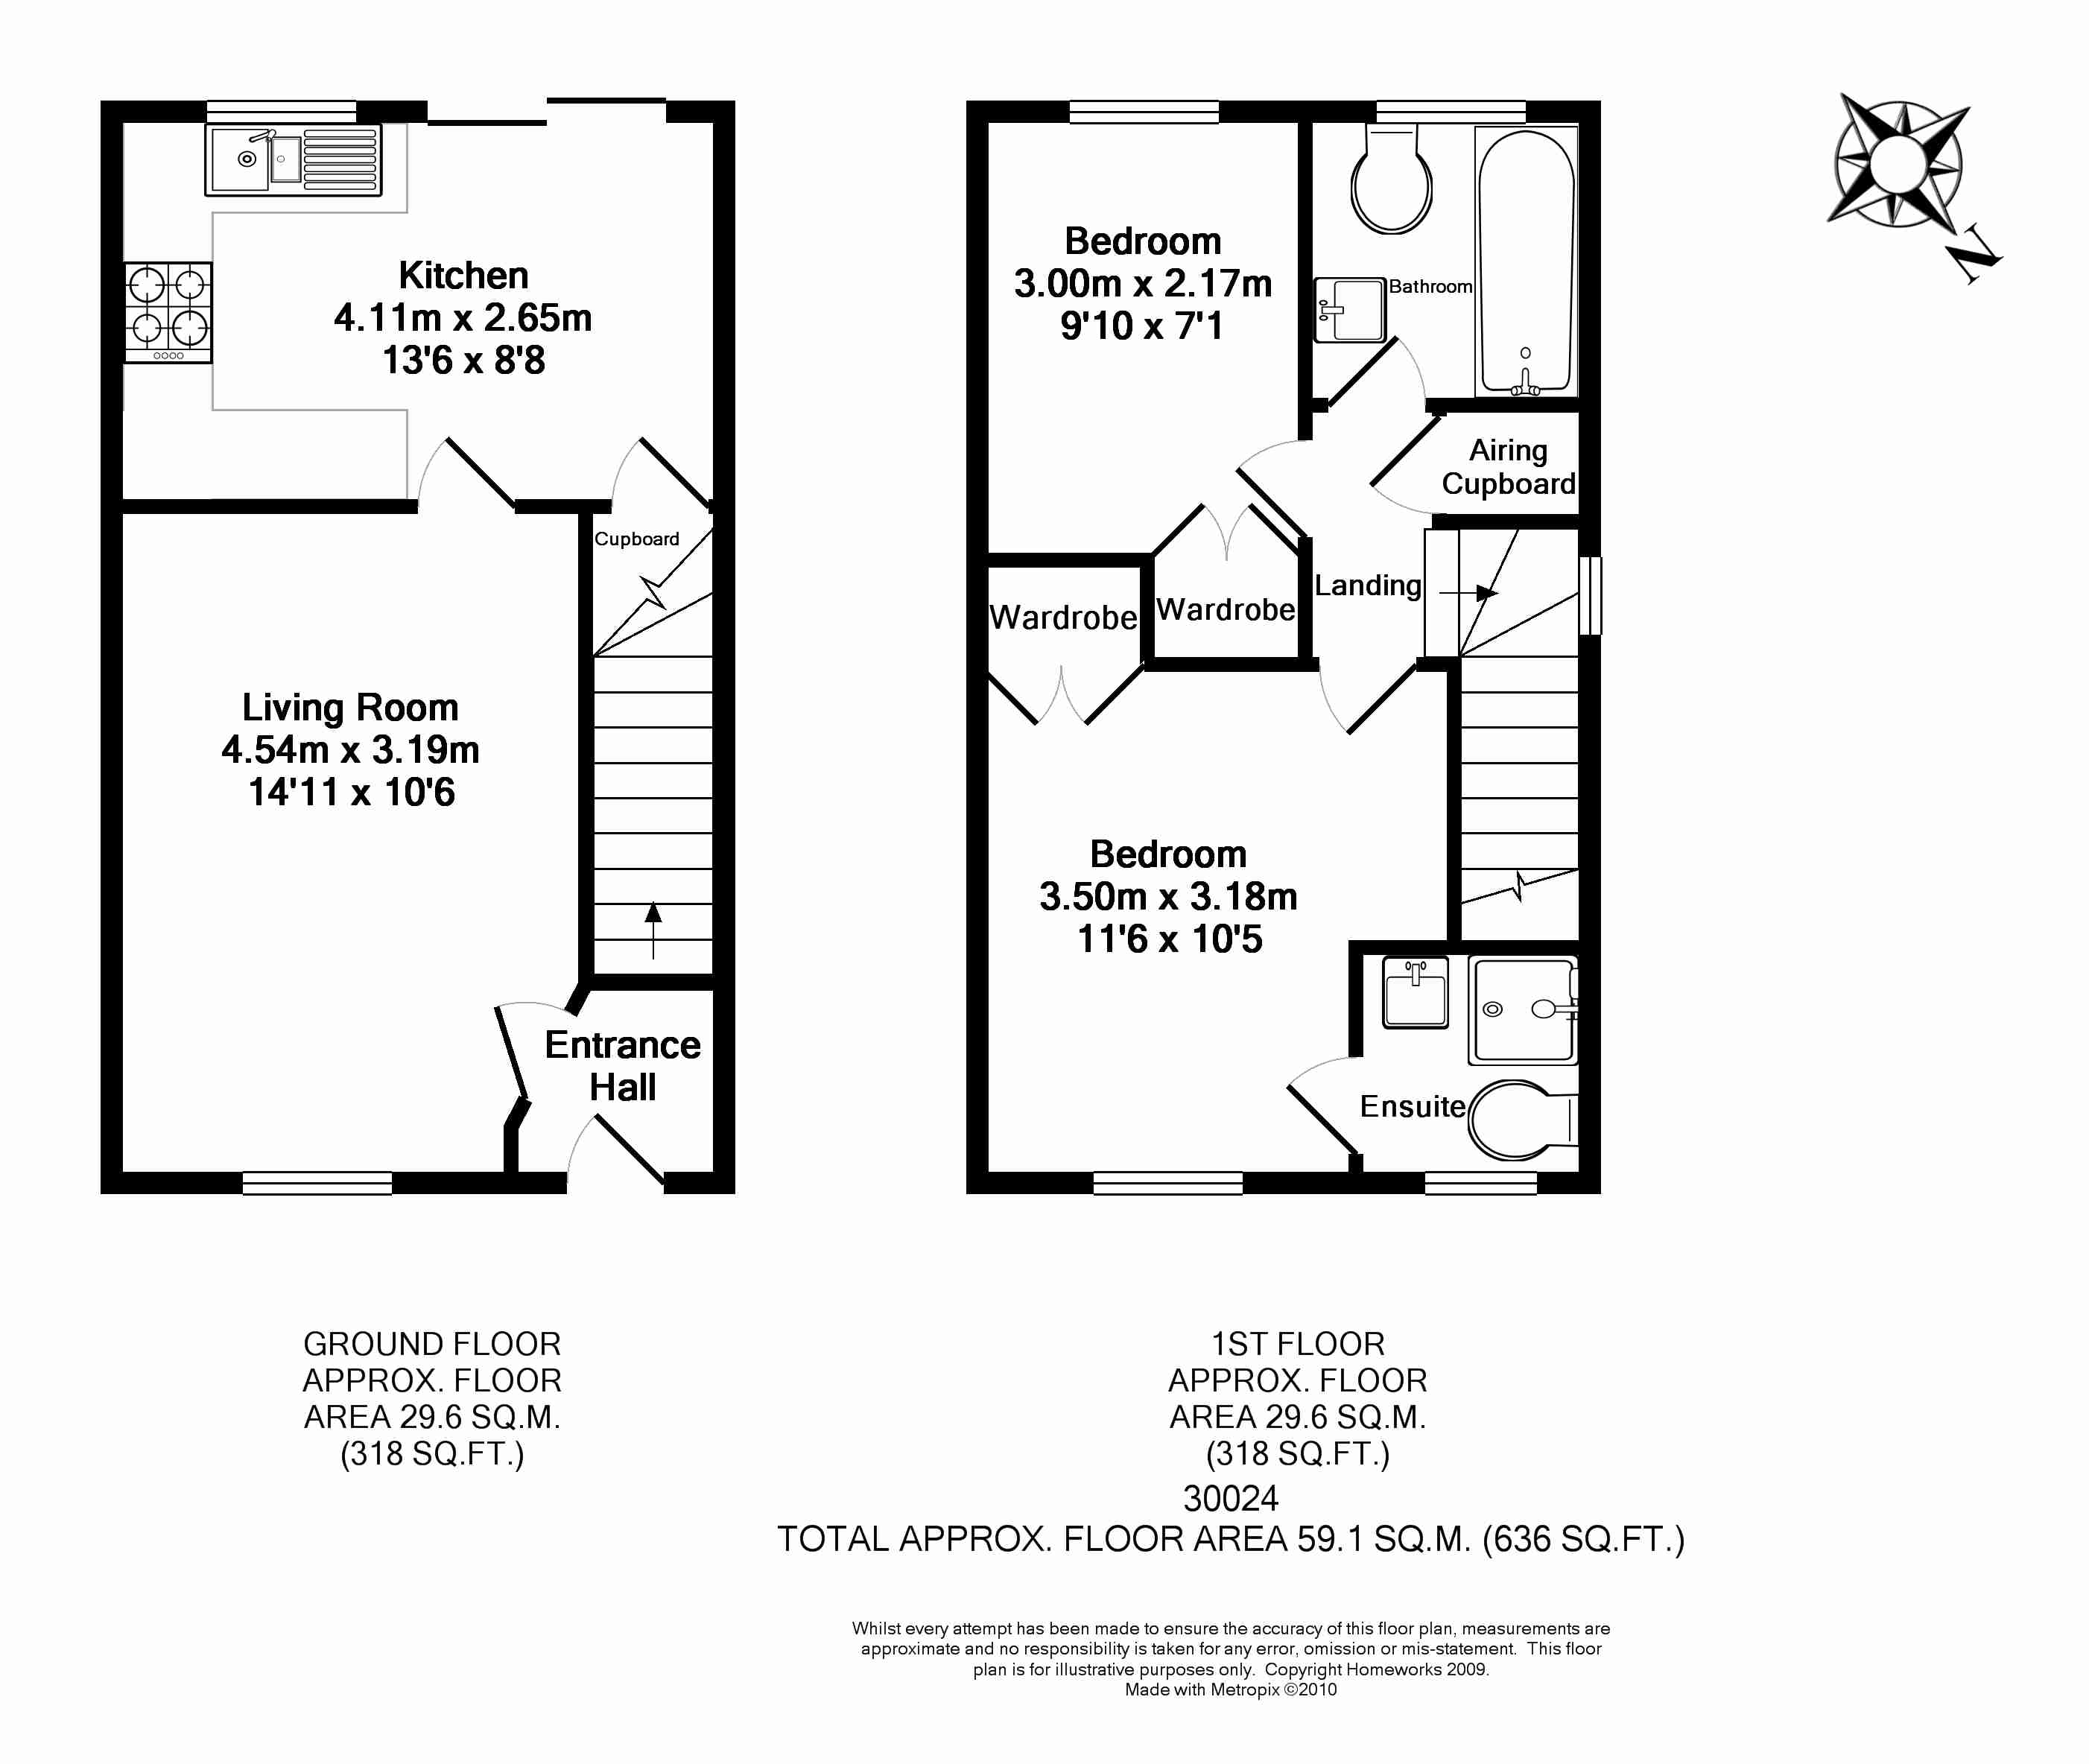wall: (119, 107, 124, 1186), (719, 129, 724, 1178), (1599, 116, 1603, 1181), (1158, 661, 1296, 686), (1583, 637, 1592, 940), (1228, 103, 1377, 121), (110, 499, 402, 508), (583, 973, 728, 987), (105, 1174, 247, 1188), (1249, 1172, 1429, 1183), (980, 121, 982, 1197), (584, 516, 588, 952), (1149, 560, 1158, 693), (964, 107, 1071, 117), (1436, 401, 1594, 408), (1363, 943, 1592, 947), (367, 103, 430, 116), (402, 1192, 565, 1195), (1436, 521, 1592, 525), (1459, 667, 1461, 954), (982, 1183, 1092, 1186), (987, 560, 1148, 562), (1305, 551, 1307, 667)
